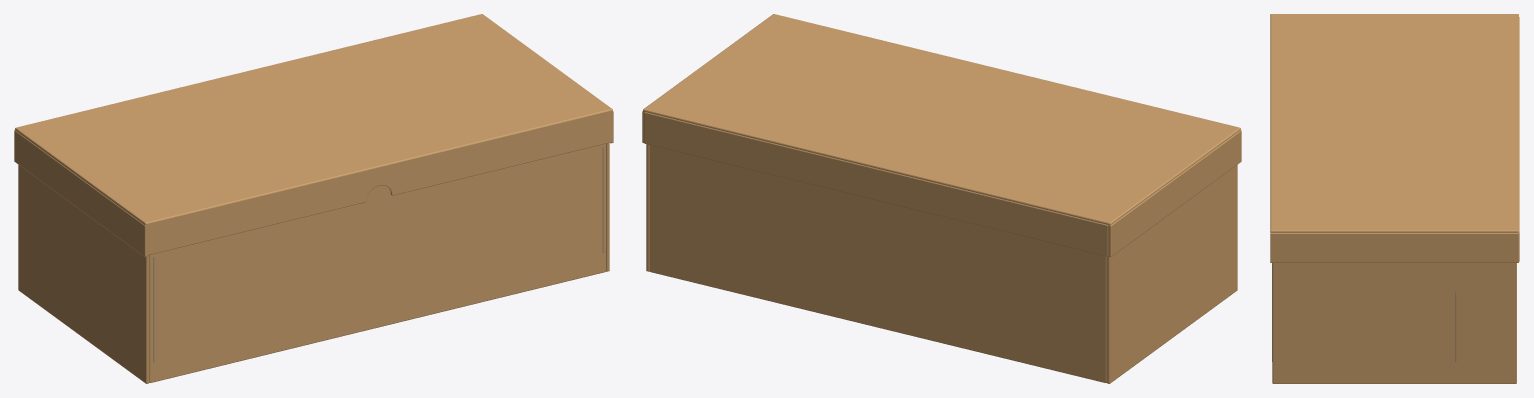
File: cs2-collectible-box.glb
3 renders of one model, left to right at view 1: azimuth 30°, elevation 25°; view 2: azimuth 150°, elevation 25°; view 3: azimuth 270°, elevation 25°, orthographic. The views are drawn at different scales.
Parts seen in each view (by area): view 1: CSGoBox LidBoardAndFoldedFlaps, CSGoBox ThickWallsAndScores; view 2: CSGoBox LidBoardAndFoldedFlaps, CSGoBox ThickWallsAndScores; view 3: CSGoBox LidBoardAndFoldedFlaps, CSGoBox ThickWallsAndScores, Furniture | Exposed kraft carton board.005.
Part boxes in pixels (x1,y1,x2,y2): CSGoBox LidBoardAndFoldedFlaps: [14, 14, 613, 256]; CSGoBox ThickWallsAndScores: [18, 143, 609, 383]; CSGoBox LidBoardAndFoldedFlaps: [642, 14, 1241, 256]; CSGoBox ThickWallsAndScores: [646, 144, 1237, 383]; CSGoBox LidBoardAndFoldedFlaps: [1270, 14, 1519, 262]; CSGoBox ThickWallsAndScores: [1272, 263, 1516, 383]; Furniture | Exposed kraft carton board.005: [1272, 263, 1456, 361].
Bounding box in the file's own units: 0.4532 × 0.1501 × 0.2196.
